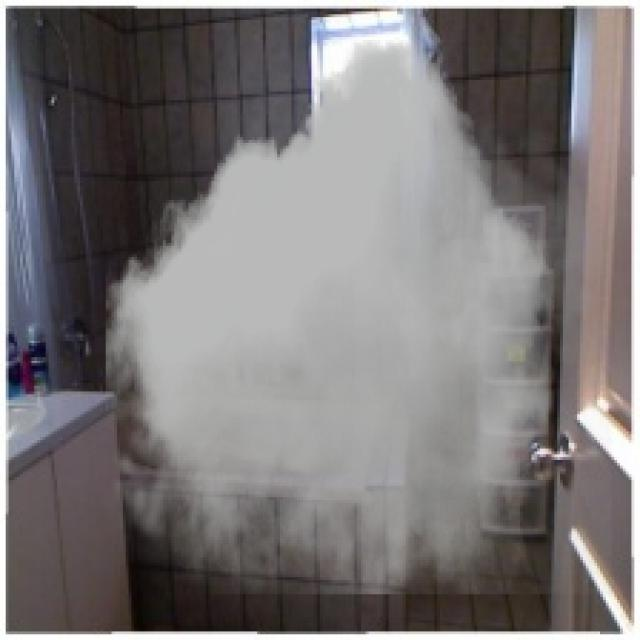smoke: (97, 40, 612, 594)
